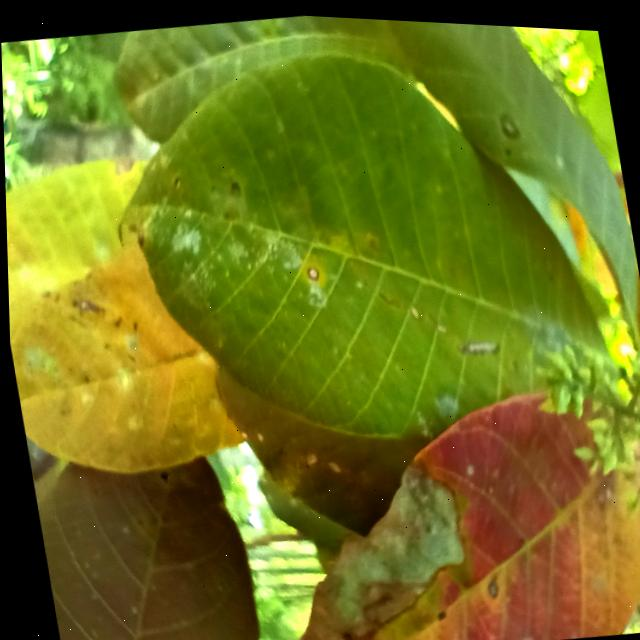Colletotrichum: (483, 573, 497, 592), (304, 261, 319, 278)
Leaf-Blight: (245, 440, 480, 640)
